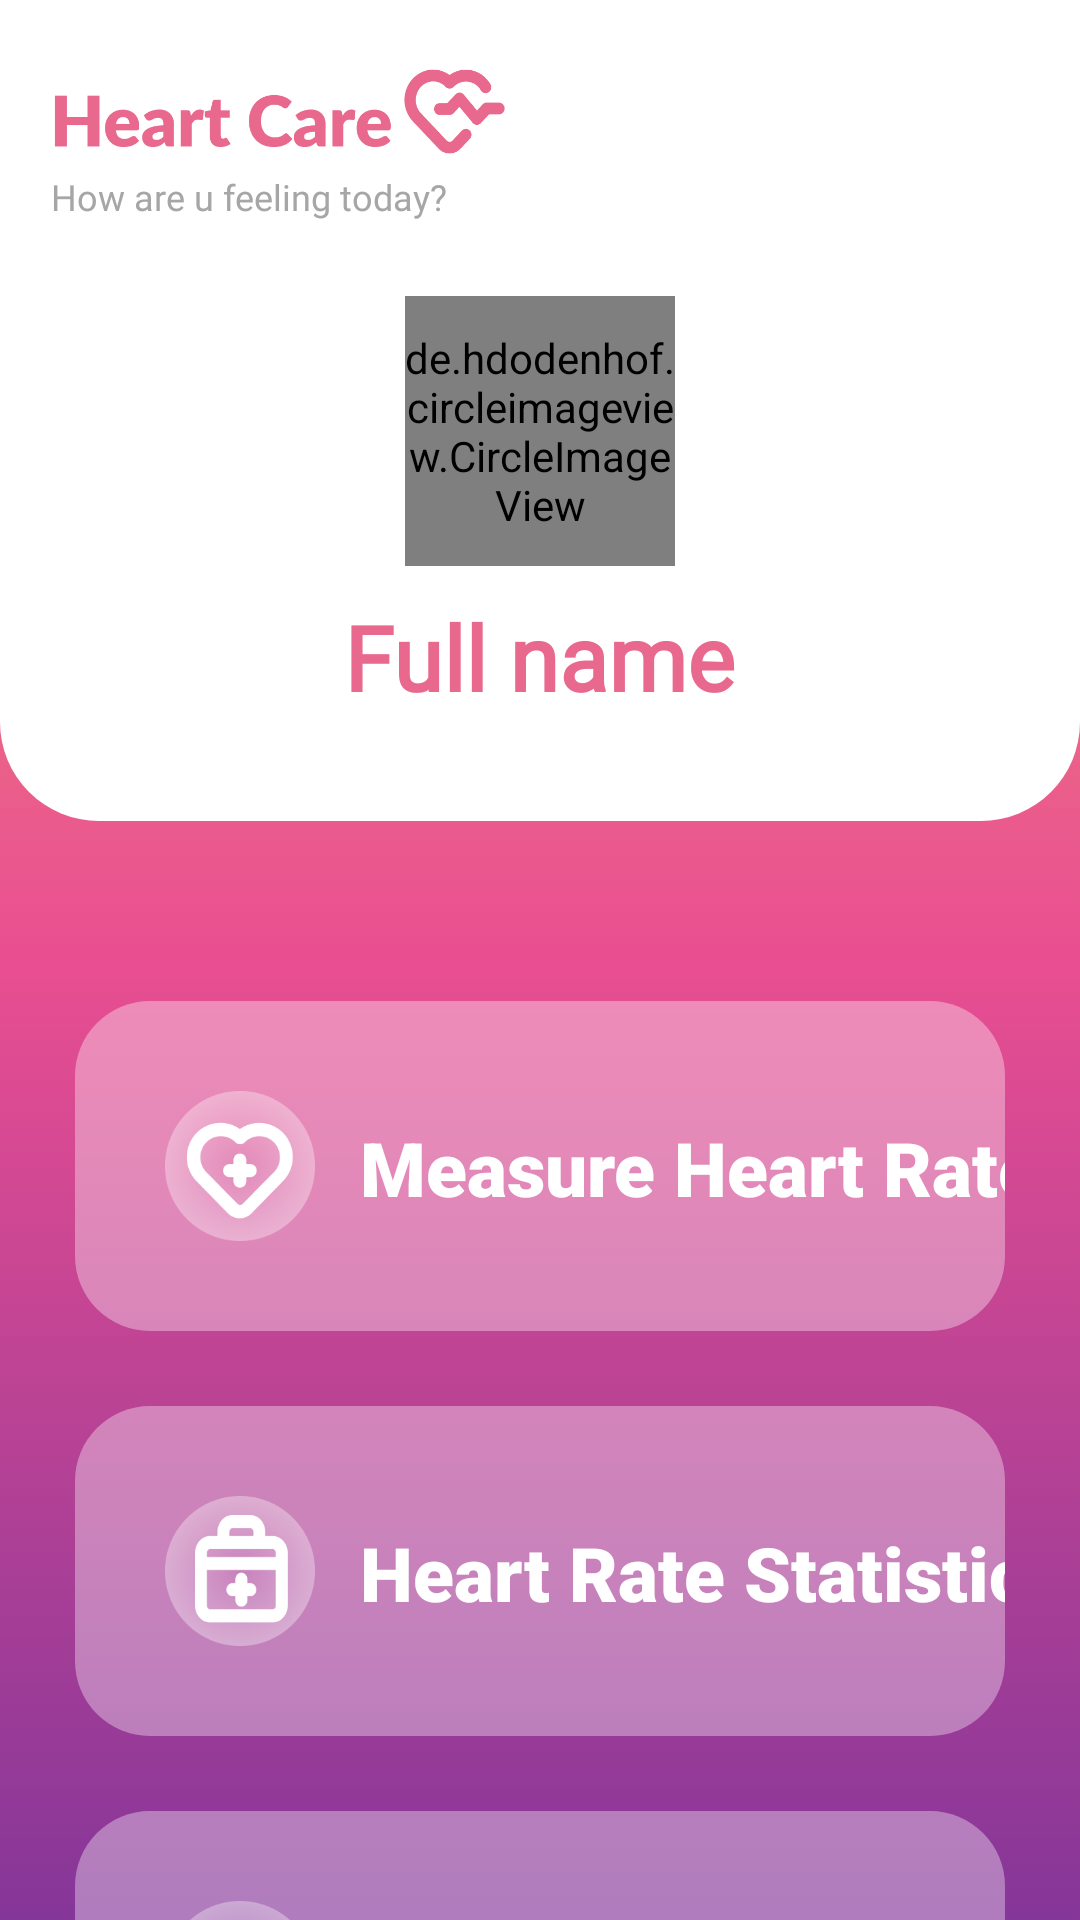

Named icons in this screenshot (1080*1920) and their bounding boxes, [x1,y1,x2,y2]:
health assessment: [165,1091,315,1241]
health record: [165,1496,315,1646]
